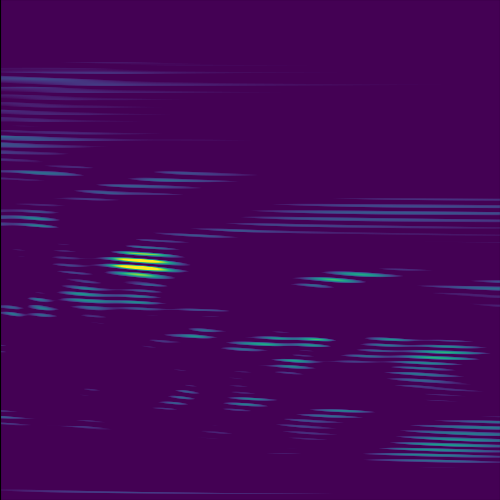semblance: (100, 249, 186, 283)
